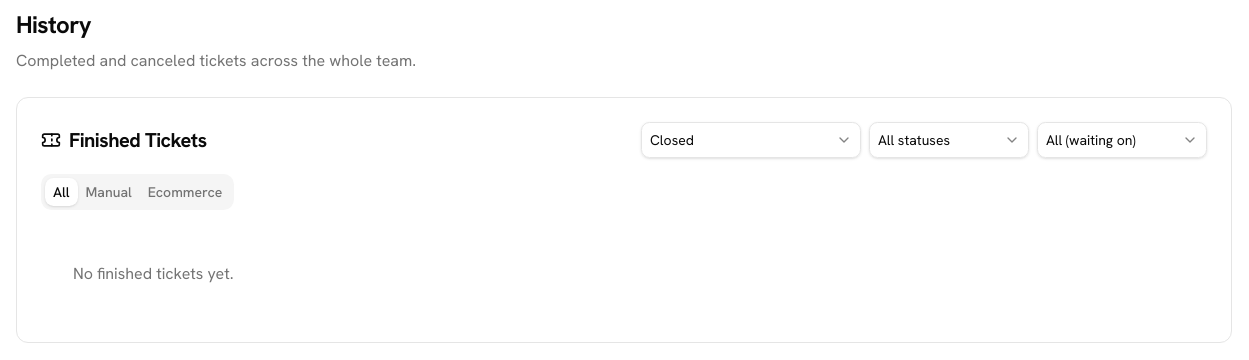
Test: TicketListPage (History props) › offers only All/Completed/Canceled in the narrowed Status dropdown
The image size is (1249, 360).
Expected: the text "No finished tickets yet." is shown, left=73, top=263, right=234, bottom=284
Click the dropdown named "Filter by status".
click(949, 140)  # box left=869, top=122, right=1029, bottom=158
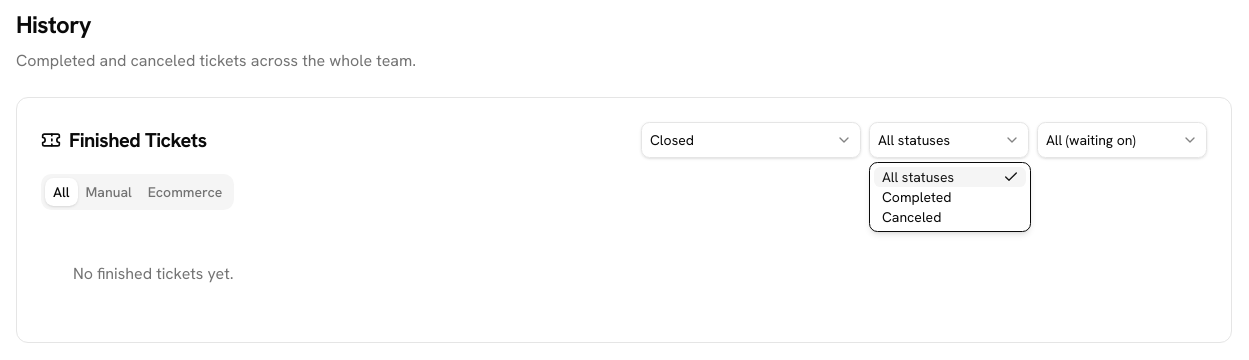
Now the option "All statuses" is shown, box left=874, top=167, right=1026, bottom=187
Now the option "Completed" is shown, box left=882, top=188, right=951, bottom=206
Now the option "Canceled" is shown, box left=882, top=208, right=941, bottom=226
